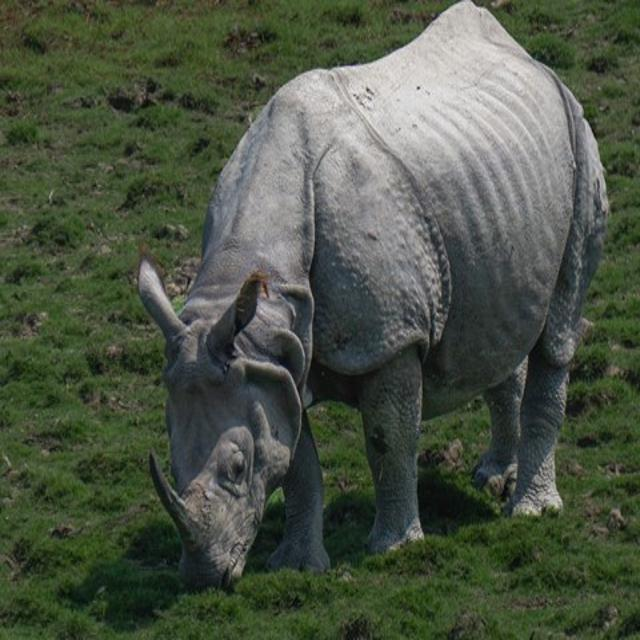rhino: (101, 1, 626, 618)
